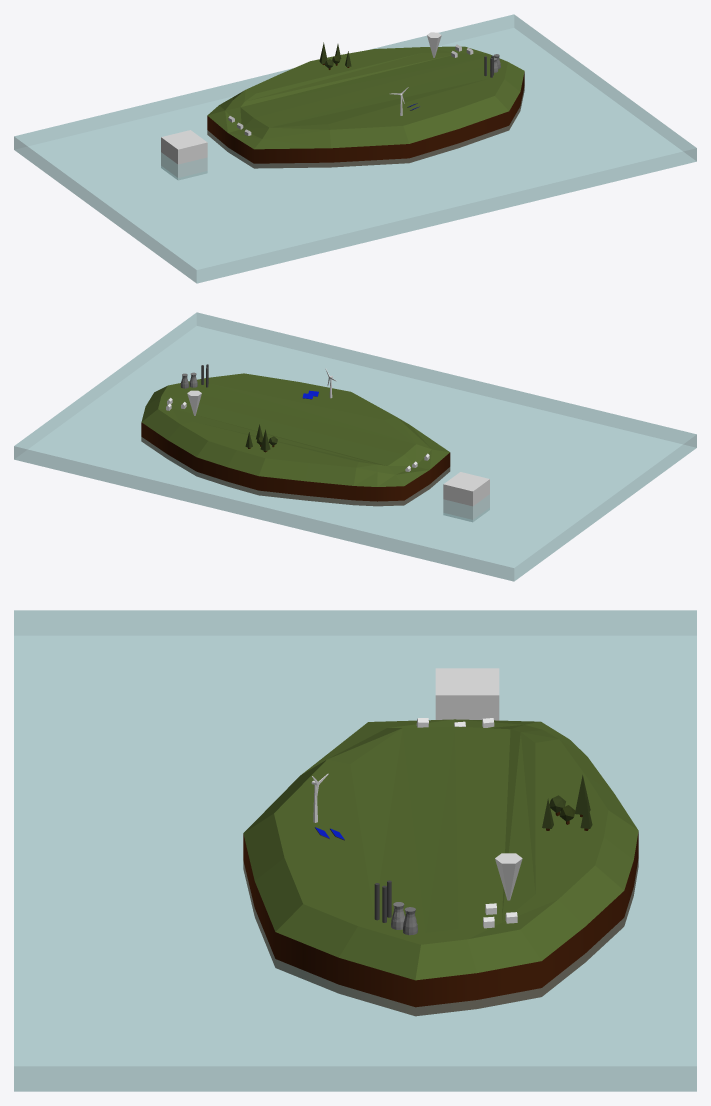
The model's file is newisland.dae.
The picture shows the model from 3 angles, top to bottom: view 1: azimuth 30°, elevation 25°; view 2: azimuth 150°, elevation 25°; view 3: azimuth 270°, elevation 25°; orthographic projection. The views are drawn at different scales.
Parts seen in each view (by area): view 1: water, island, iceberg; view 2: water, island, iceberg; view 3: water, island, iceberg, tornado.
Boxes of the visible parts, left/top/right/bottom form: water: left=14, top=14, right=696, bottom=283; island: left=207, top=46, right=524, bottom=168; iceberg: left=161, top=130, right=207, bottom=180; water: left=14, top=312, right=696, bottom=581; island: left=141, top=373, right=450, bottom=506; iceberg: left=443, top=472, right=489, bottom=521; water: left=14, top=610, right=696, bottom=1091; island: left=243, top=719, right=638, bottom=1016; iceberg: left=435, top=668, right=499, bottom=720; tornado: left=495, top=853, right=522, bottom=900.
Size of the model in its own units: 77.56 by 49.1 by 10.3.
